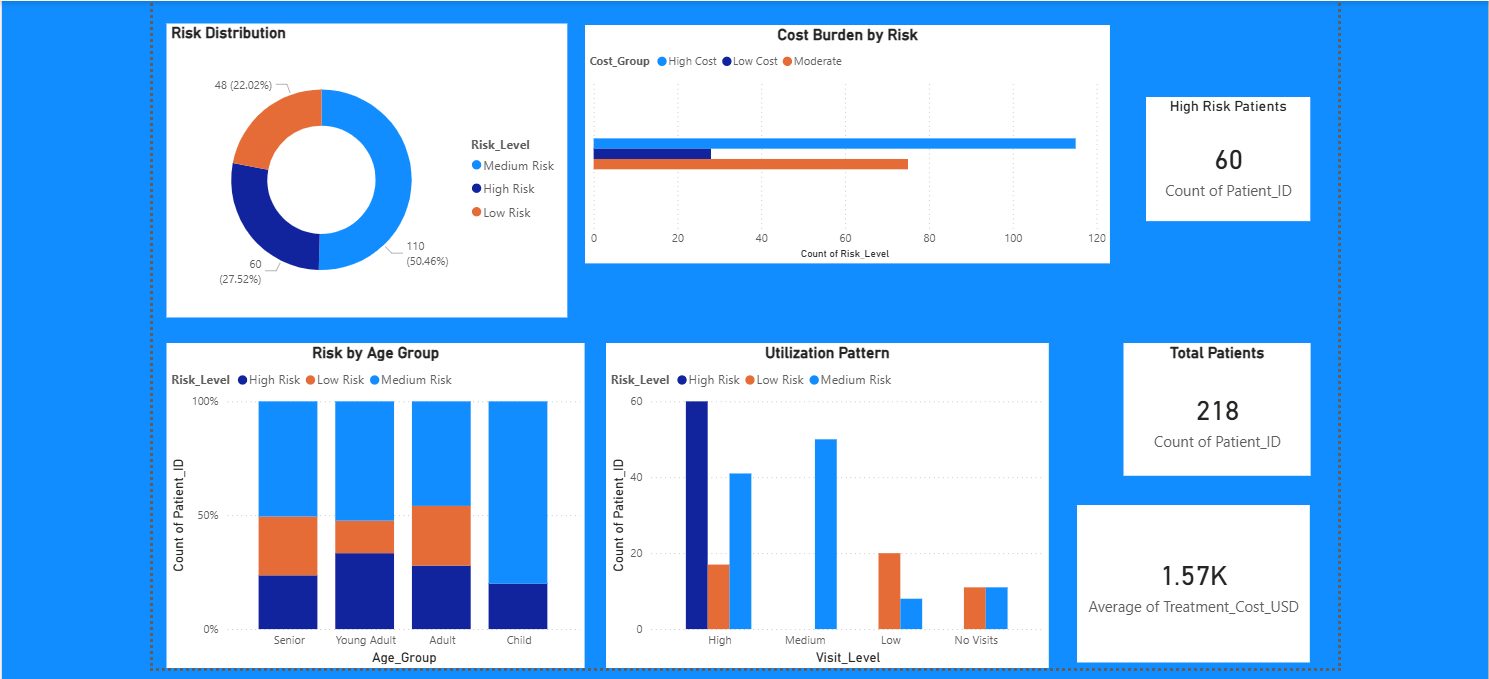

This screenshot's page, from the dashboard's own definition file:
{"tool":"powerbi","page":{"name":"Medical Risk Dashboard ","canvas":[1280,720],"ordinal":0},"visuals":[{"type":"donutChart","title":"Risk Distribution","fields":{"Category":["Messy_medical_patient_dataset.Risk_Level"],"Y":["CountNonNull(Messy_medical_patient_dataset.Patient_ID)"]},"box":[15.1,24.6,432.8,317.5],"z":0},{"type":"hundredPercentStackedColumnChart","title":"Risk by Age Group","fields":{"Series":["Messy_medical_patient_dataset.Risk_Level"],"Category":["Messy_medical_patient_dataset.Age_Group"],"Y":["CountNonNull(Messy_medical_patient_dataset.Patient_ID)"]},"box":[15.1,368.5,451.7,351.5],"z":1000},{"type":"clusteredBarChart","title":"Cost Burden by Risk","fields":{"Y":["CountNonNull(Messy_medical_patient_dataset.Risk_Level)"],"Series":["Messy_medical_patient_dataset.Cost_Group"]},"box":[466.8,26.5,566.9,257],"z":2000},{"type":"clusteredColumnChart","title":"Utilization Pattern ","fields":{"Category":["Messy_medical_patient_dataset.Visit_Level"],"Y":["CountNonNull(Messy_medical_patient_dataset.Patient_ID)"],"Series":["Messy_medical_patient_dataset.Risk_Level"]},"box":[489.5,368.5,478.1,351.5],"z":3000},{"type":"card","title":"Total Patients","fields":{"Values":["CountNonNull(Messy_medical_patient_dataset.Patient_ID)"]},"box":[1046.9,368.5,202.2,143.6],"z":4000},{"type":"card","fields":{"Values":["Avg(Messy_medical_patient_dataset.Treatment_Cost_USD)"]},"box":[997.8,544.3,251.3,170.1],"z":5000},{"type":"card","title":"High Risk Patients","fields":{"Values":["CountNonNull(Messy_medical_patient_dataset.Patient_ID)"]},"box":[1071.5,103.9,177.6,134.2],"z":6000}]}

Visuals, with their boxes in screenshot pixels (x1, y1, x2, y2):
"Risk Distribution" donutChart: (161, 19, 564, 314)
"Risk by Age Group" hundredPercentStackedColumnChart: (161, 339, 581, 665)
"Cost Burden by Risk" clusteredBarChart: (581, 21, 1108, 260)
"Utilization Pattern " clusteredColumnChart: (602, 339, 1047, 665)
"Total Patients" card: (1120, 339, 1308, 472)
card - Avg(Messy_medical_patient_dataset.Treatment_Cost_USD): (1075, 502, 1308, 660)
"High Risk Patients" card: (1143, 93, 1308, 217)
